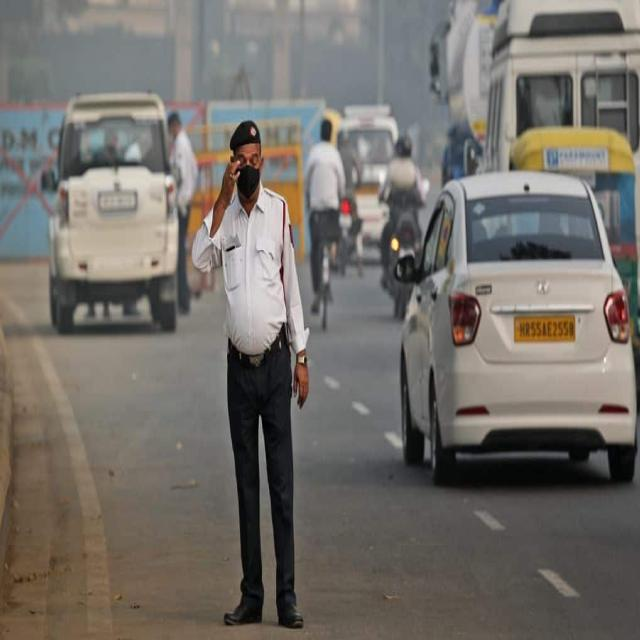bicycle: (306, 118, 345, 328)
car: (395, 171, 638, 483), (41, 96, 176, 333)
